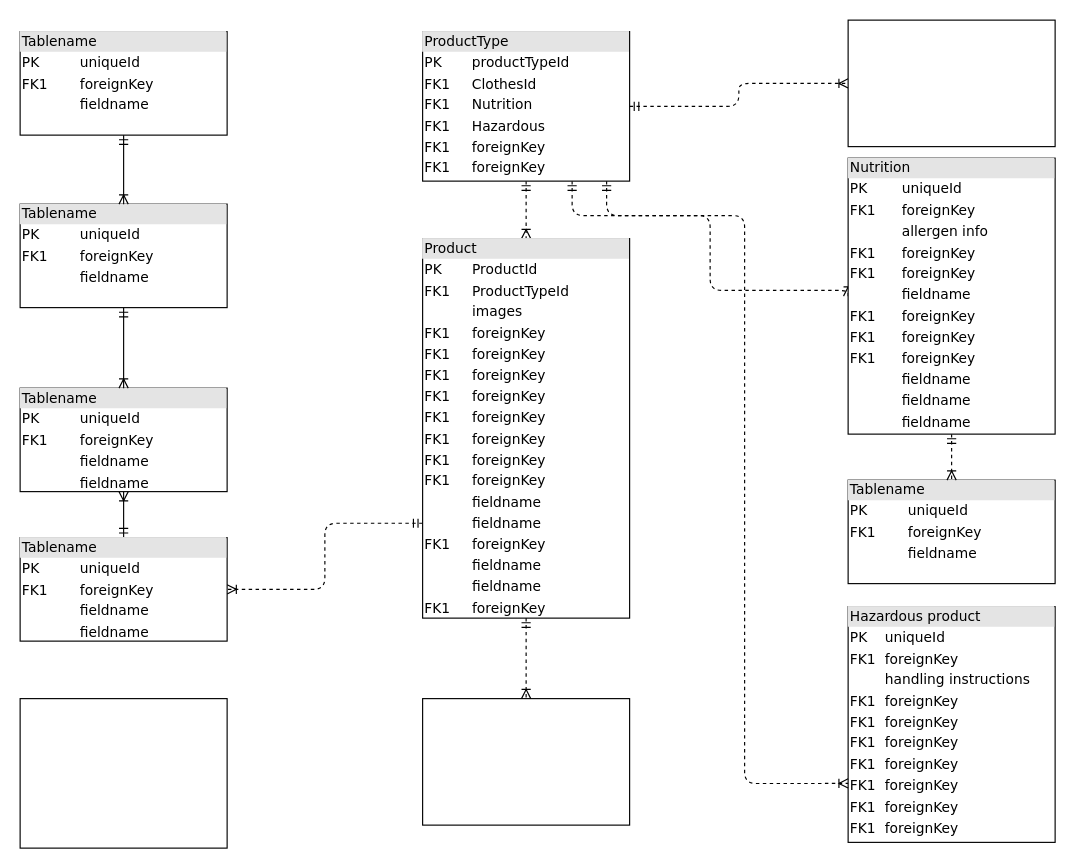
This 1075x868 diagram has some shape labels left out. The shapes that lost their labels are listed below. From the top down, each one's box as (x1, y1, x2, y2) in pixels, then its label:
(847, 19, 1055, 147): Clothes PK ClothesId FK1 ProductTypeId size colour style
(19, 697, 227, 848): Tablename PK uniqueId FK1 foreignKey fieldname fieldname fieldname fieldname
(421, 697, 630, 825): Tablename PK uniqueId FK1 foreignKey fieldname fieldname FK1 foreignKey
